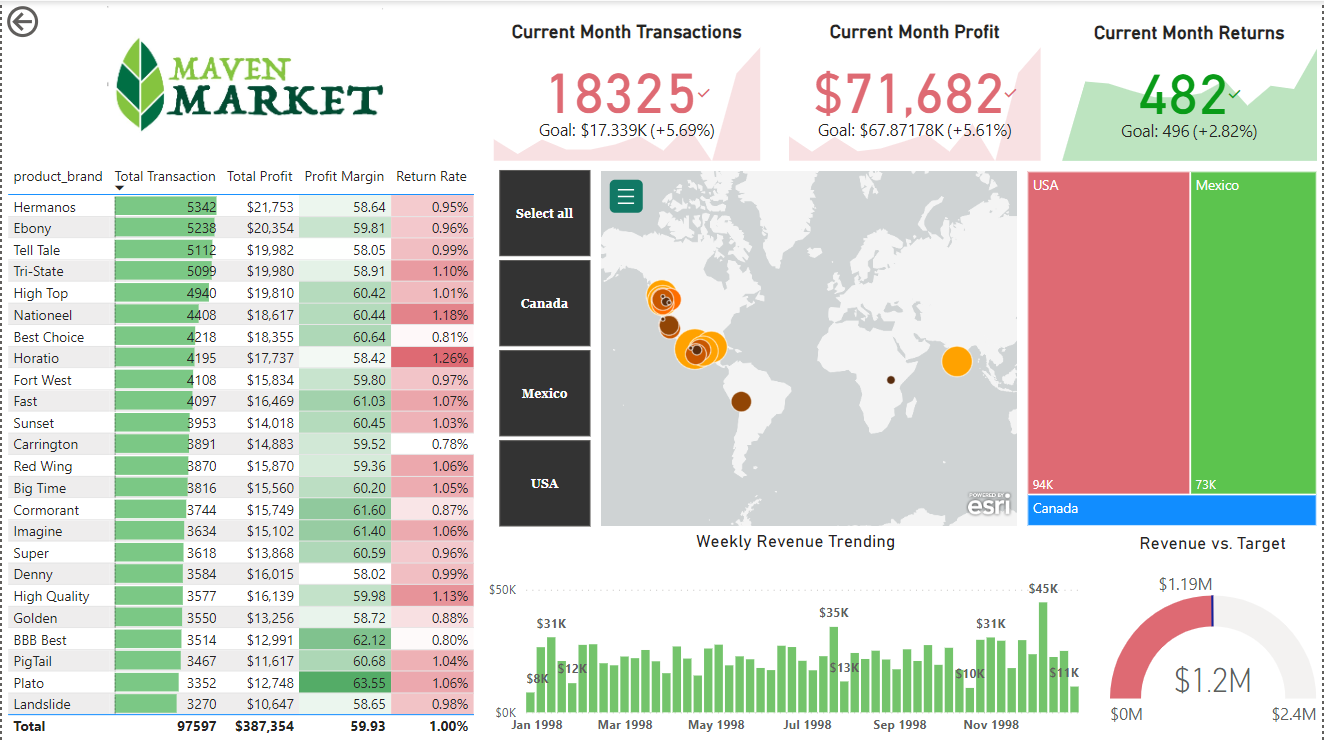

The dashboard page shown, as its layout file describes it:
{"tool":"powerbi","page":{"name":"Page 1","canvas":[1280,720],"ordinal":0},"visuals":[{"type":"image","box":[9.7,0,450.8,160.5],"z":0},{"type":"tableEx","fields":{"Values":["Products.product_brand","Transaction_Data.Total Transaction","Transaction_Data.Total Profit","Transaction_Data.Profit Margin","Return_Data.Return Rate"]},"box":[0,153.5,487.1,567.2],"z":1000},{"type":"actionButton","box":[0,0,100,40],"z":2000},{"type":"kpi","title":"Current Month Transactions","fields":{"Indicator":["Transaction_Data.Total Transaction"],"TrendLine":["Calendar.Start of Month"],"Goal":["Transaction_Data.Last Month Transactions"]},"box":[471.3,18.9,269.1,141.1],"z":3000},{"type":"kpi","title":"Current Month Profit","fields":{"TrendLine":["Calendar.Start of Month"],"Indicator":["Transaction_Data.Total Profit"],"Goal":["Transaction_Data.Last Month Profit"]},"box":[757.8,18.9,254.5,141.1],"z":4000},{"type":"kpi","title":"Current Month Returns","fields":{"Goal":["Return_Data.Total Returns"],"TrendLine":["Calendar.Start of Month"],"Indicator":["Calendar.Last Month Returns"]},"box":[1022.5,20.4,257.5,139.6],"z":5000},{"type":"slicer","fields":{"Values":["Stores.store_country"]},"box":[460.5,160.5,128.1,353.5],"z":6000},{"type":"treemap","fields":{"Group":["Stores.store_country","Stores.store_state","Stores.store_city"],"Values":["Transaction_Data.Total Transaction"]},"box":[989.2,160.5,290.3,353.5],"z":7000},{"type":"columnChart","title":"Weekly Revenue Trending","fields":{"Y":["Transaction_Data.Total Revenue"],"Category":["Calendar.Start of Week"]},"box":[471.9,514.1,596.8,206],"z":8000},{"type":"gauge","title":"Revenue vs. Target","fields":{"Y":["Transaction_Data.Total Revenue"],"TargetValue":["Transaction_Data.Revenue Target"]},"box":[1069,515,210,203],"z":9000},{"type":"esriVisual","fields":{"Location":["Stores.store_city"],"Color":["Transaction_Data.Total Transaction"],"Size":["Transaction_Data.Total Transaction"]},"box":[575.4,160.5,413.4,354.3],"z":10000}]}

Visuals, with their boxes in screenshot pixels (x1, y1, x2, y2), scaled from the page's 1280x720 canvas onto the 1324x744 screenshot:
image: [x1=10, y1=0, x2=476, y2=166]
tableEx - Products.product_brand x Transaction_Data.Total Transaction: [x1=0, y1=159, x2=504, y2=743]
actionButton: [x1=0, y1=0, x2=103, y2=41]
"Current Month Transactions" kpi: [x1=488, y1=20, x2=766, y2=165]
"Current Month Profit" kpi: [x1=784, y1=20, x2=1047, y2=165]
"Current Month Returns" kpi: [x1=1058, y1=21, x2=1323, y2=165]
slicer - Stores.store_country: [x1=476, y1=166, x2=609, y2=531]
treemap - Stores.store_country x Stores.store_state: [x1=1023, y1=166, x2=1323, y2=531]
"Weekly Revenue Trending" columnChart: [x1=488, y1=531, x2=1105, y2=743]
"Revenue vs. Target" gauge: [x1=1106, y1=532, x2=1323, y2=742]
esriVisual - Stores.store_city x Transaction_Data.Total Transaction: [x1=595, y1=166, x2=1023, y2=532]
